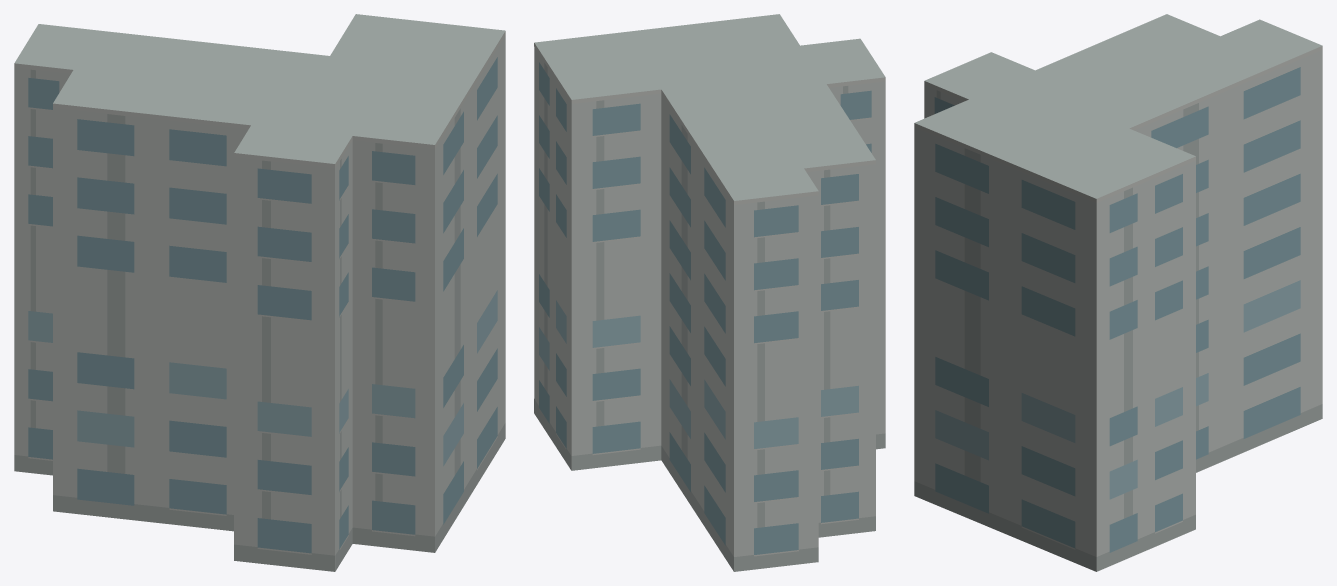
The model's file is residential-7185ee64-95f2-437a-b4fb-589c600af47b.glb.
3 views of the same model, side by side, from view 1: azimuth 30°, elevation 25°; view 2: azimuth 150°, elevation 25°; view 3: azimuth 270°, elevation 25° (orthographic). The views are drawn at different scales.
Parts seen in each view (by area): view 1: residential-7185ee64-95f2-437a-b4fb-589c600af47b.tmp; view 2: residential-7185ee64-95f2-437a-b4fb-589c600af47b.tmp; view 3: residential-7185ee64-95f2-437a-b4fb-589c600af47b.tmp.
Part boxes in pixels (bbox=[...]): residential-7185ee64-95f2-437a-b4fb-589c600af47b.tmp: bbox=[14, 14, 505, 571]; residential-7185ee64-95f2-437a-b4fb-589c600af47b.tmp: bbox=[534, 14, 885, 571]; residential-7185ee64-95f2-437a-b4fb-589c600af47b.tmp: bbox=[914, 14, 1322, 571].
Size of the model in its own units: 23.4 by 22 by 21.84.
